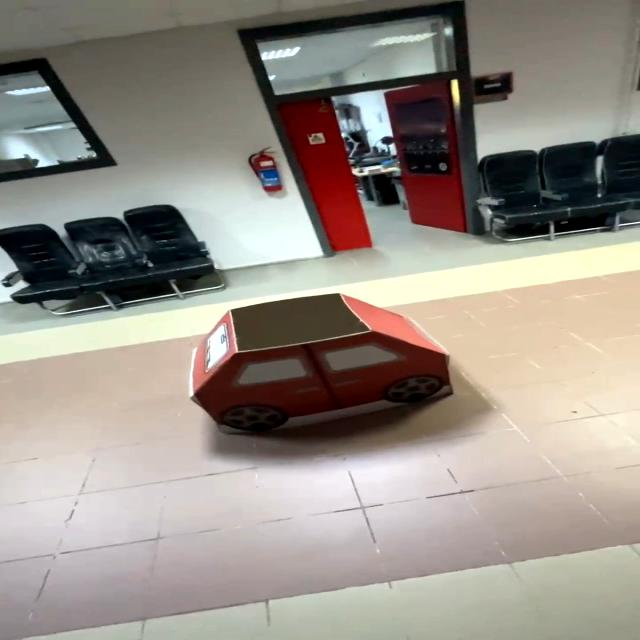red_car: (121, 281, 517, 455)
